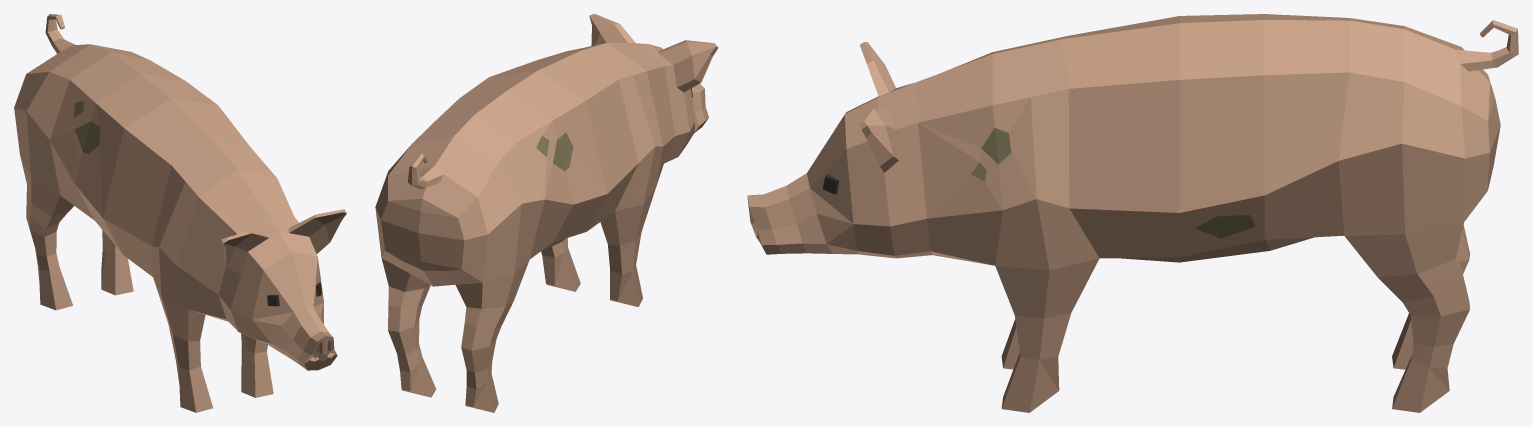
Rendered from Pig.fbx.
3 views of the same model, side by side, from view 1: azimuth 30°, elevation 25°; view 2: azimuth 150°, elevation 25°; view 3: azimuth 270°, elevation 25° (orthographic). The views are drawn at different scales.
Parts seen in each view (by area): view 1: Pig; view 2: Pig; view 3: Pig.
Boxes of the visible parts, bbox=[...] form: Pig: bbox=[14, 14, 346, 412]; Pig: bbox=[375, 14, 718, 412]; Pig: bbox=[747, 14, 1518, 412].
Size of the model in its own units: 48.67 by 89.02 by 172.
